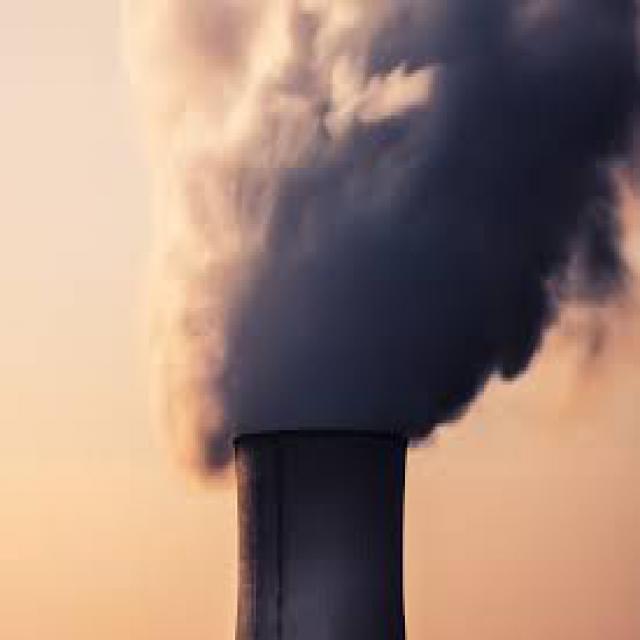smoke: (153, 7, 638, 430)
